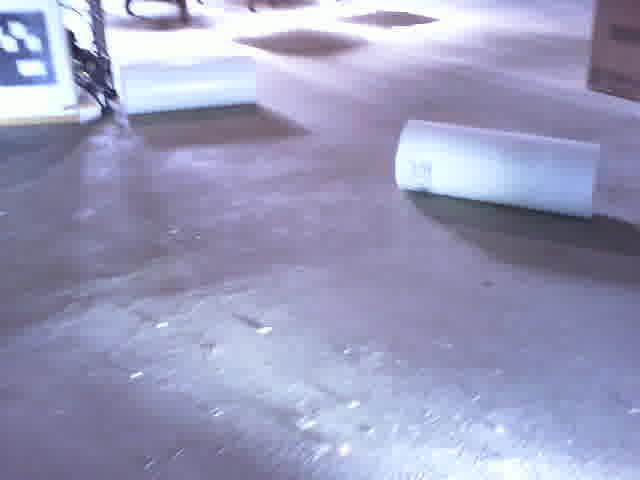coral: (392, 115, 604, 223), (112, 40, 262, 123)
